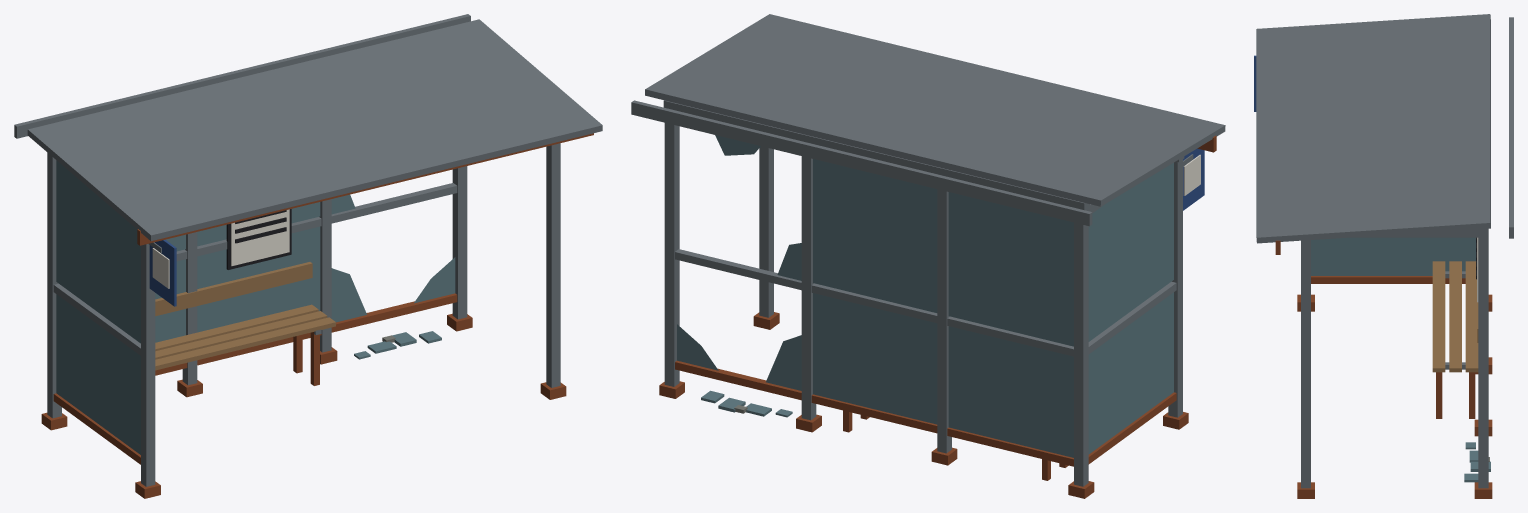
The model's file is bus_stop.glb.
The picture shows the model from 3 angles, left to right: view 1: azimuth 30°, elevation 25°; view 2: azimuth 150°, elevation 25°; view 3: azimuth 270°, elevation 25°; orthographic projection. The views are drawn at different scales.
Visible parts, largest first — view 1: bus_stop; view 2: bus_stop; view 3: bus_stop.
Boxes of the visible parts, left/top/right/bottom form: bus_stop: left=14, top=14, right=602, bottom=498; bus_stop: left=631, top=14, right=1225, bottom=498; bus_stop: left=1254, top=14, right=1513, bottom=498.
Size of what is drawn, in the model's own units: 3.92 by 2.46 by 2.05.
Materials: 2 (2 with a texture image).
